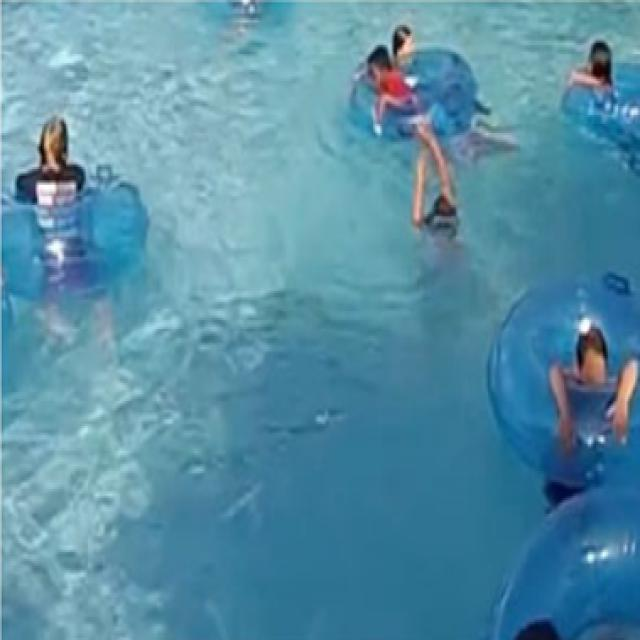Drowning: (409, 134, 468, 245)
Swimming: (546, 310, 640, 458), (13, 110, 92, 207), (358, 41, 428, 130)
